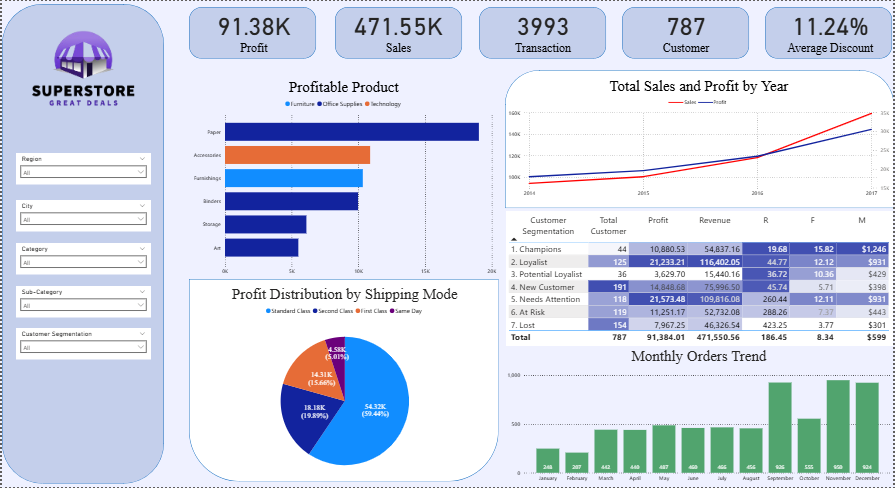

The page's visual inventory and layout, read from the dashboard file:
{"tool":"powerbi","page":{"name":"Main Dashboard","canvas":[1980,1080],"ordinal":0},"visuals":[{"type":"shape","box":[416,618,688,450],"z":0},{"type":"barChart","title":"Profitable Product","fields":{"Category":["df_superstore.Sub-Category"],"Series":["df_superstore.Category"],"Y":["Sum(df_superstore.Profit)"]},"box":[416,170,688,448],"z":1000},{"type":"shape","box":[0,6,360,1066],"z":2000},{"type":"slicer","fields":{"Values":["df_superstore.City"]},"box":[30,442.9,300,70],"z":3000},{"type":"slicer","fields":{"Values":["df_superstore.Category"]},"box":[30,538.6,300,70],"z":4000},{"type":"slicer","fields":{"Values":["df_superstore.Sub-Category"]},"box":[30,634,300,70],"z":5000},{"type":"slicer","fields":{"Values":["df_superstore.Region"]},"box":[30,338,300,70],"z":6000},{"type":"image","box":[0,0,360,302],"z":7000},{"type":"slicer","fields":{"Values":["rfm_table.segment"]},"box":[30,727.1,300,70],"z":8000},{"type":"shape","box":[1116.7,152.4,864.3,307.1],"z":9000},{"type":"lineChart","title":"Total Sales and Profit by Year","fields":{"Category":["df_superstore.Order Date.Variation.Date Hierarchy.Year"],"Y":["Sum(df_superstore.Sales)"],"Y2":["Sum(df_superstore.Profit)"]},"box":[1119,169,857.1,276.2],"z":10000},{"type":"tableEx","fields":{"Values":["rfm_table.segment","rfm_table.df_superstore_Customer ID","Sum(df_superstore.Profit)","Sum(df_superstore.Sales)","Avg(rfm_table.recency)","Avg(rfm_table.frequency)","Avg(rfm_table.monetary)"]},"box":[1120,467.5,860,300],"z":11000},{"type":"pieChart","title":"Profit Distribution by Shipping Mode","fields":{"Category":["df_superstore.Ship Mode"],"Y":["Sum(df_superstore.Profit)"]},"box":[416.7,631,688.1,450],"z":12000},{"type":"clusteredColumnChart","title":"Monthly Orders Trend","fields":{"Category":["df_superstore.Order Date.Variation.Date Hierarchy.Month"],"Y":["CountNonNull(df_superstore.Order ID)"]},"box":[1116.7,769,861.9,309.5],"z":13000},{"type":"shape","box":[1695,12.5,282.5,115],"z":14000},{"type":"shape","box":[1377.5,12.5,282.5,115],"z":15000},{"type":"shape","box":[1060,12.5,282.5,115],"z":16000},{"type":"shape","box":[740,12.5,282.5,115],"z":17000},{"type":"shape","box":[415,12.5,282.5,115],"z":18000},{"type":"card","fields":{"Values":["Sum(df_superstore.Profit)"]},"box":[380,0,360,130],"z":19000},{"type":"card","fields":{"Values":["Sum(df_superstore.Sales)"]},"box":[702.5,0,357.5,130],"z":20000},{"type":"card","fields":{"Values":["Count(df_superstore.Order ID)"]},"box":[1022.5,0,360,130],"z":21000},{"type":"card","fields":{"Values":["Count(df_superstore.Customer ID)"]},"box":[1340,0,360,130],"z":22000},{"type":"card","fields":{"Values":["Avg(df_superstore.Discount)"]},"box":[1705,0,272.5,130],"z":23000}]}

Visuals, with their boxes in screenshot pixels (x1, y1, x2, y2), scaled from the page's 1980x1080 canvas onto the 895x488 screenshot:
shape: <region>188, 279, 499, 483</region>
"Profitable Product" barChart: <region>188, 77, 499, 279</region>
shape: <region>0, 3, 163, 484</region>
slicer - df_superstore.City: <region>14, 200, 149, 232</region>
slicer - df_superstore.Category: <region>14, 243, 149, 275</region>
slicer - df_superstore.Sub-Category: <region>14, 286, 149, 318</region>
slicer - df_superstore.Region: <region>14, 153, 149, 184</region>
image: <region>0, 0, 163, 136</region>
slicer - rfm_table.segment: <region>14, 329, 149, 360</region>
shape: <region>505, 69, 894, 208</region>
"Total Sales and Profit by Year" lineChart: <region>506, 76, 893, 201</region>
tableEx - rfm_table.segment x rfm_table.df_superstore_Customer ID: <region>506, 211, 894, 347</region>
"Profit Distribution by Shipping Mode" pieChart: <region>188, 285, 499, 487</region>
"Monthly Orders Trend" clusteredColumnChart: <region>505, 347, 894, 487</region>
shape: <region>766, 6, 894, 58</region>
shape: <region>623, 6, 750, 58</region>
shape: <region>479, 6, 607, 58</region>
shape: <region>334, 6, 462, 58</region>
shape: <region>188, 6, 315, 58</region>
card - Sum(df_superstore.Profit): <region>172, 0, 334, 59</region>
card - Sum(df_superstore.Sales): <region>318, 0, 479, 59</region>
card - Count(df_superstore.Order ID): <region>462, 0, 625, 59</region>
card - Count(df_superstore.Customer ID): <region>606, 0, 768, 59</region>
card - Avg(df_superstore.Discount): <region>771, 0, 894, 59</region>
